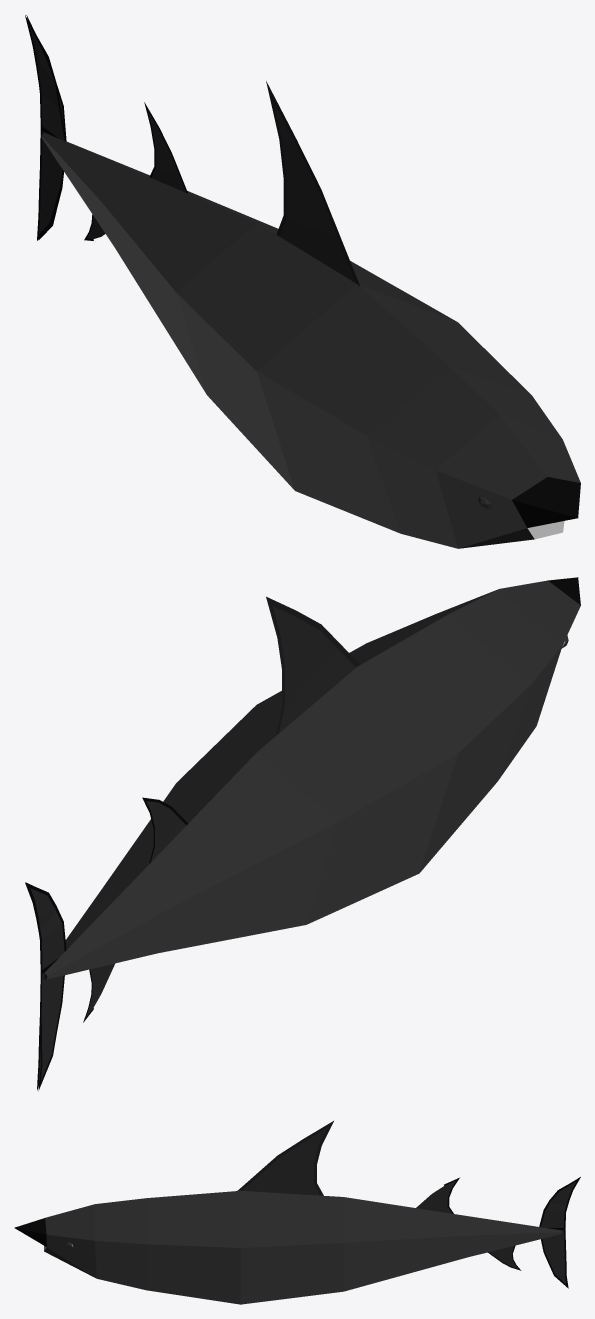
The model's file is low_poly_shark.glb.
3 views of the same model, one above another, from view 1: azimuth 30°, elevation 25°; view 2: azimuth 150°, elevation 25°; view 3: azimuth 270°, elevation 25° (orthographic). The views are drawn at different scales.
Visible parts, largest first — view 1: Cylinder.002; view 2: Cylinder.002; view 3: Cylinder.002.
Part boxes in pixels (x1,y1,x2,y2): Cylinder.002: (25,15,580,548); Cylinder.002: (25,577,580,1091); Cylinder.002: (14,1121,580,1304).
Bounding box in the file's own units: 391 × 291 × 886.
1 material, 1 textured.
